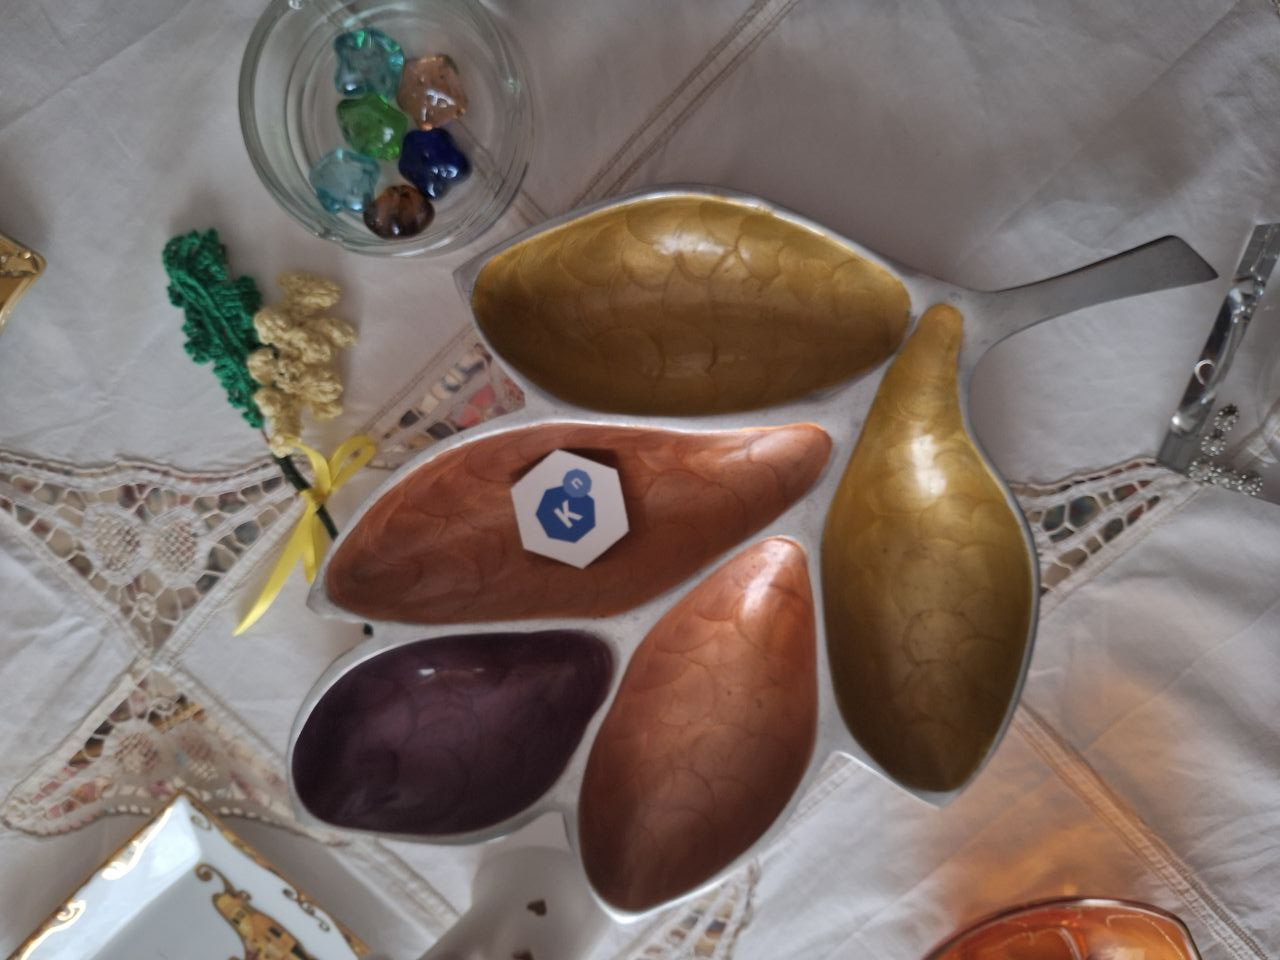knative: (535, 467, 598, 544)
